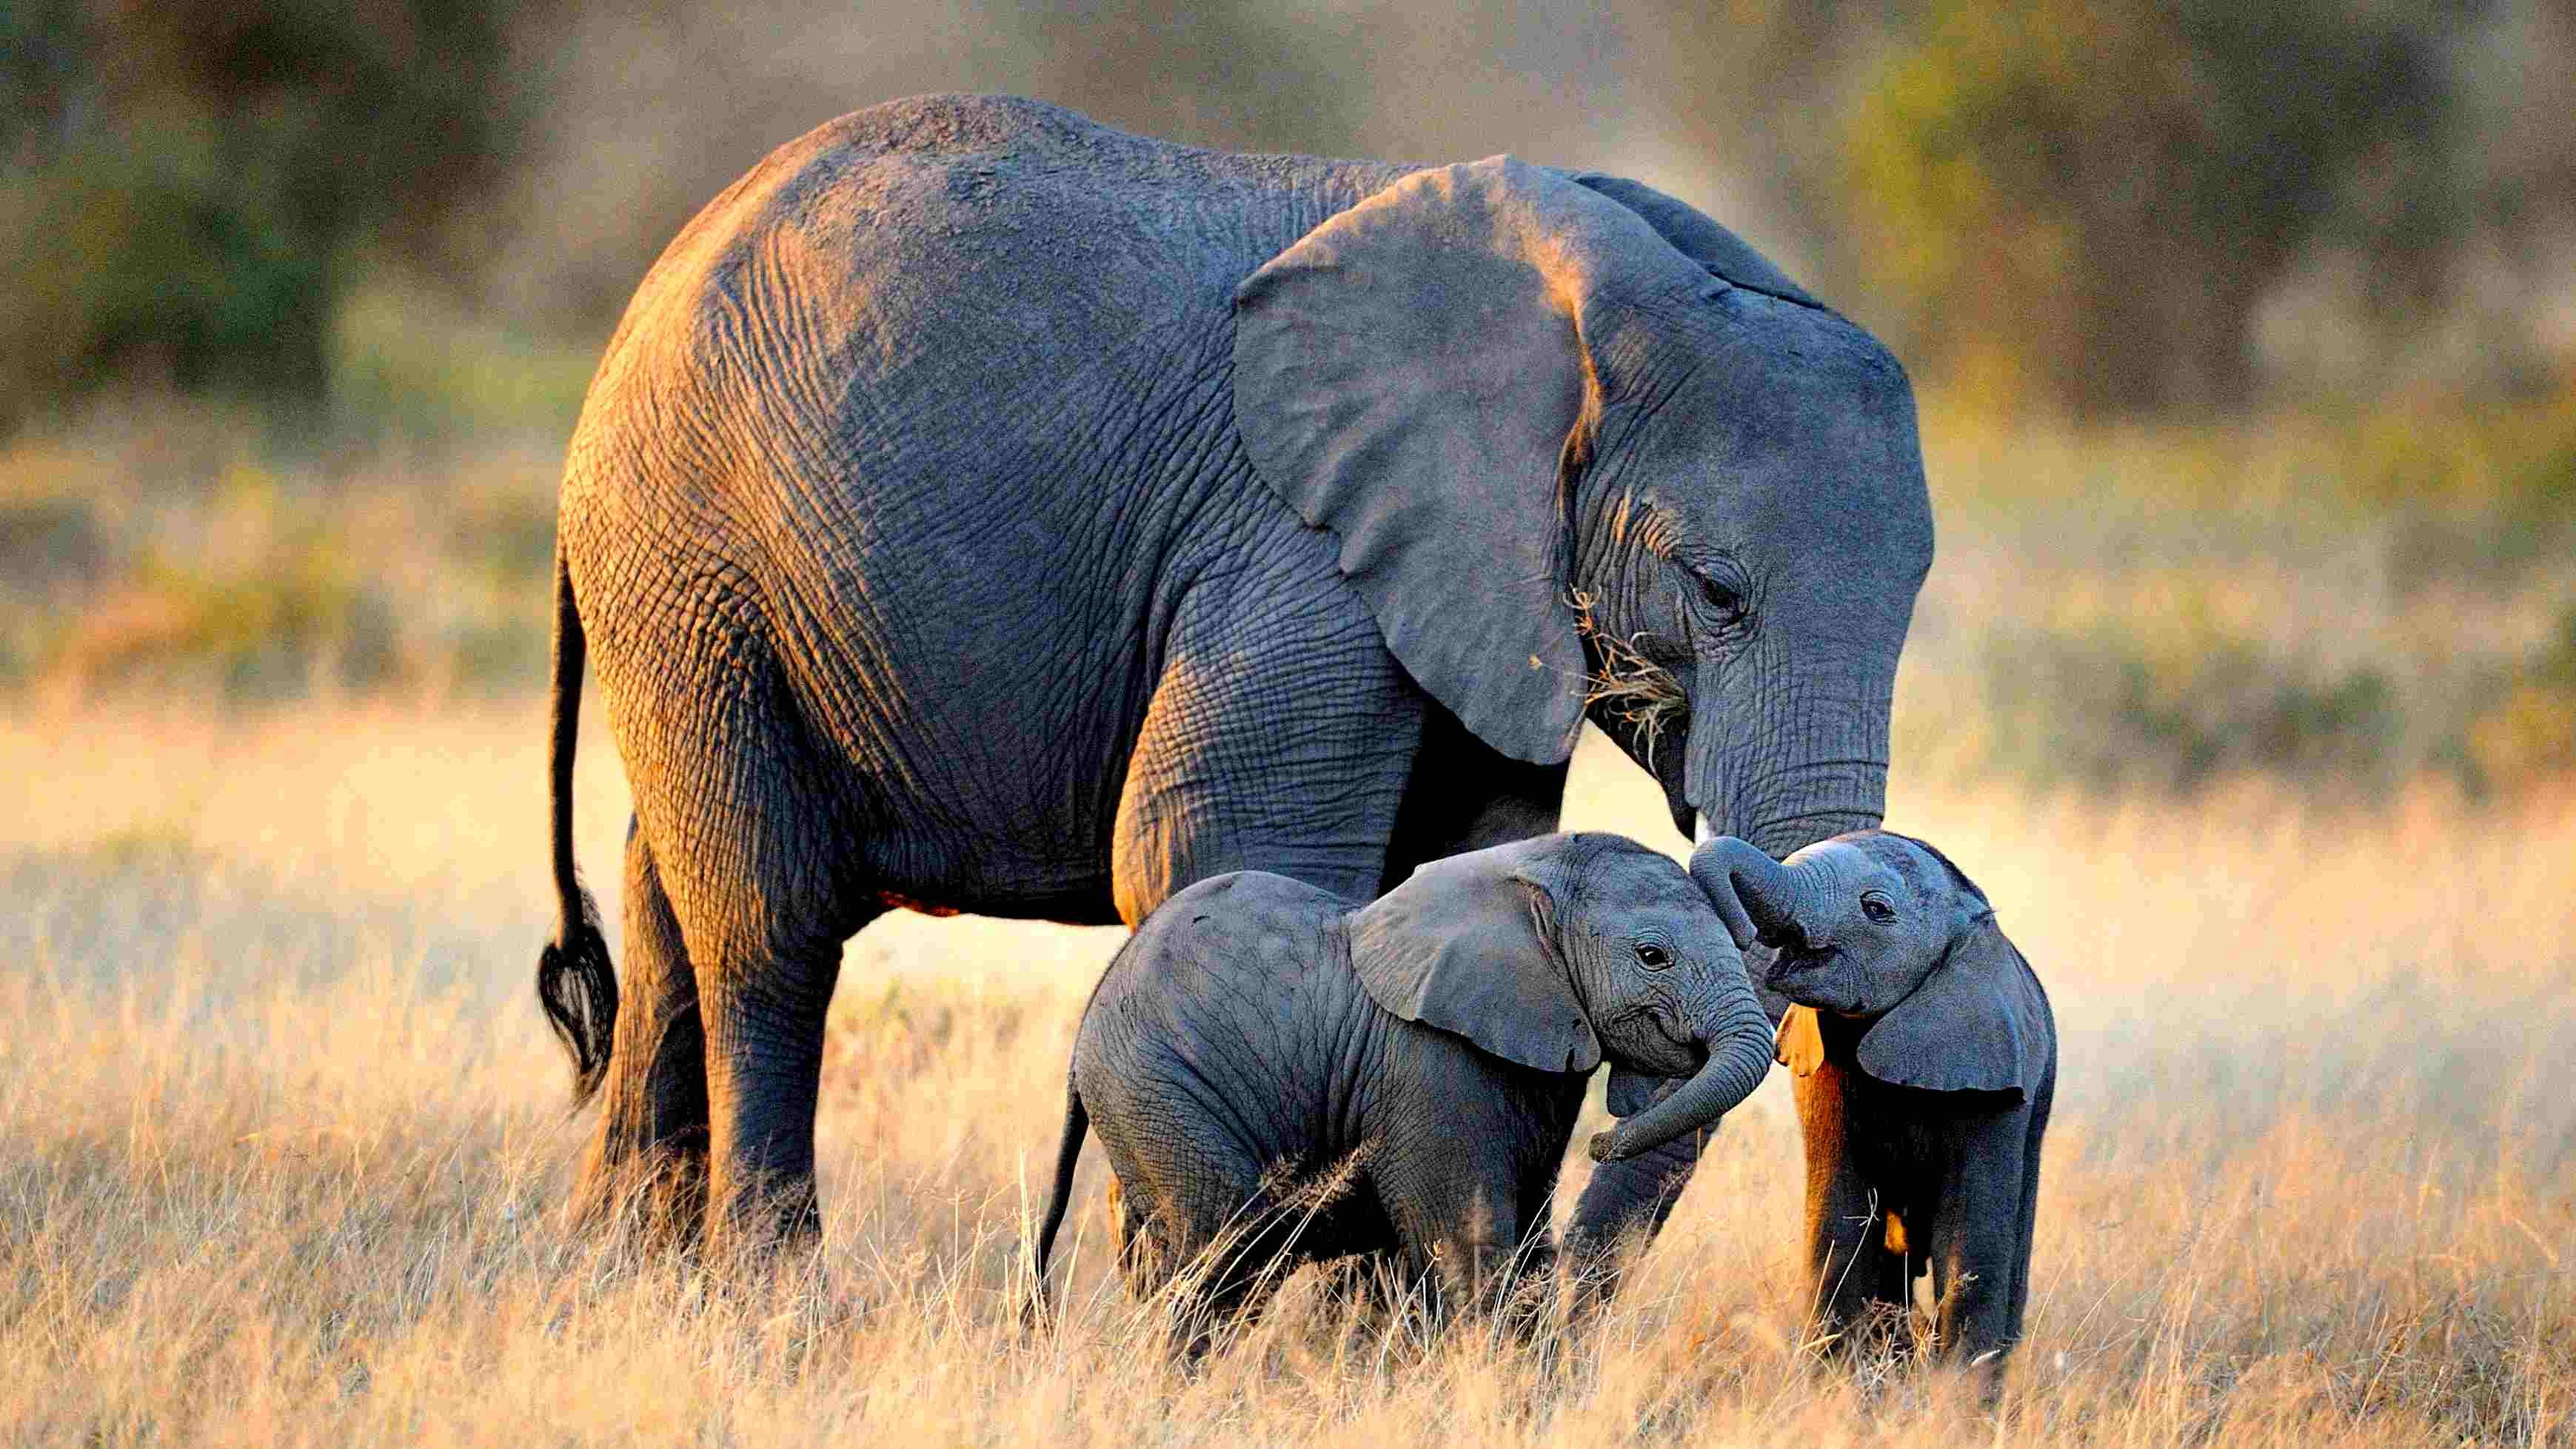elephant: (534, 90, 1934, 1304), (1026, 826, 1767, 1341), (1677, 823, 2051, 1380)
